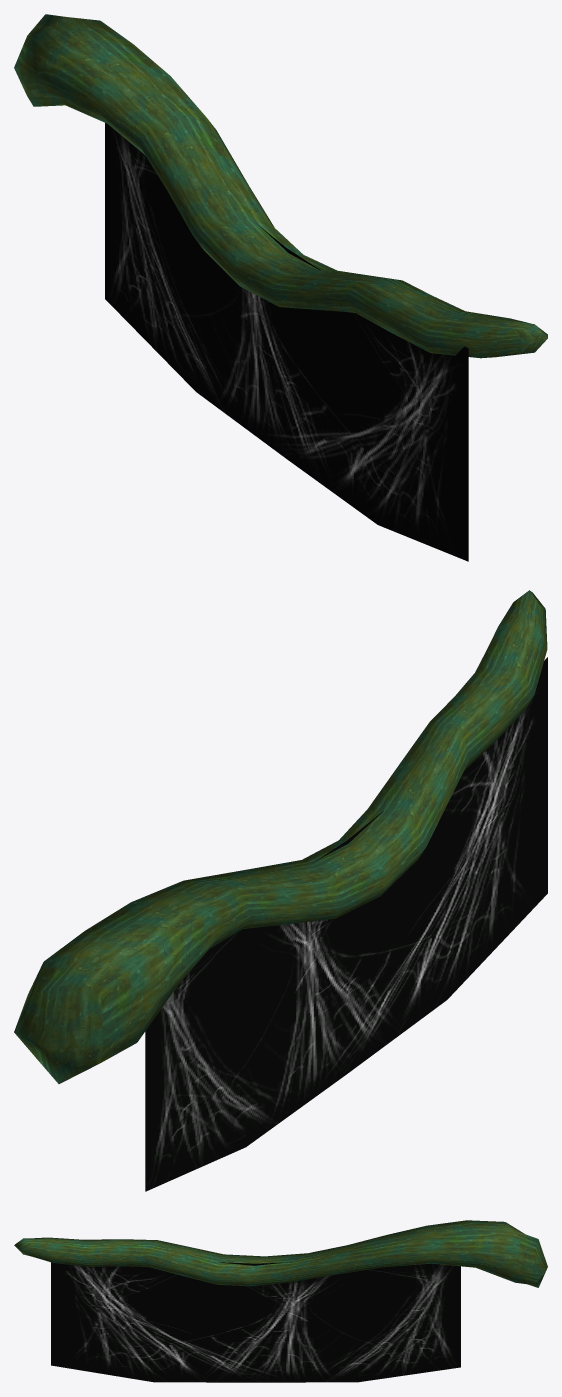
File: INST_MIRK_BRANCH_WEB.fbx
3 renders of one model, top to bottom at view 1: azimuth 30°, elevation 25°; view 2: azimuth 150°, elevation 25°; view 3: azimuth 270°, elevation 25°, orthographic. The views are drawn at different scales.
Visible parts, largest first — view 1: INST_MIRK_BRANCH_WEB; view 2: INST_MIRK_BRANCH_WEB; view 3: INST_MIRK_BRANCH_WEB.
Boxes of the visible parts, <box> form: INST_MIRK_BRANCH_WEB: <box>14,14,547,561</box>; INST_MIRK_BRANCH_WEB: <box>14,590,547,1191</box>; INST_MIRK_BRANCH_WEB: <box>14,1220,547,1382</box>.
Bounding box in the file's own units: 15123 × 38506 × 119714.
2 materials, 2 textured.
